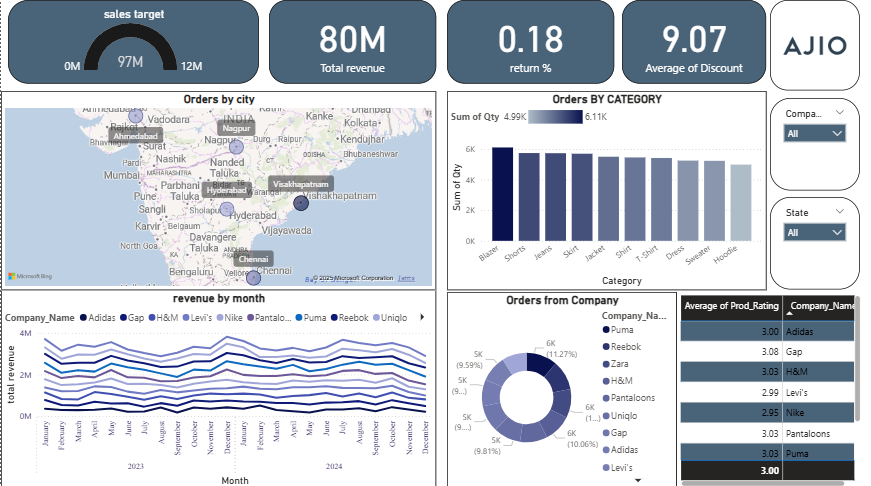

The dashboard page shown, as its layout file describes it:
{"tool":"powerbi","page":{"name":"Sales","canvas":[1280,720],"ordinal":0},"visuals":[{"type":"columnChart","title":"Orders BY CATEGORY ","fields":{"Category":["products.Category"],"Y":["Sum(orders.Qty)"]},"box":[655.6,133.2,469.8,292.7],"z":0},{"type":"donutChart","title":"Orders from Company","fields":{"Category":["products.Company_Name"],"Y":["Sum(orders.Qty)"]},"box":[655.6,428.8,338,291.2],"z":1000},{"type":"slicer","fields":{"Values":["products.Company_Name"]},"box":[1131.2,143.4,131.7,136.1],"z":2000},{"type":"tableEx","title":"QUANTITIES BY CATEGORY ","fields":{"Values":["Avg(ratings.Prod_Rating)","products.Company_Name"]},"box":[993.7,428.8,275.1,291.2],"z":3000},{"type":"stackedAreaChart","title":"revenue by month","fields":{"Series":["products.Company_Name"],"Category":["orders.Order_Date.Variation.Date Hierarchy.Year","orders.Order_Date.Variation.Date Hierarchy.Month"],"Y":["orders.total revenue"]},"box":[0,425.9,639.5,294.1],"z":4000},{"type":"image","box":[1131.2,0,131.7,133.2],"z":5000},{"type":"slicer","fields":{"Values":["customer.State"]},"box":[1131.2,289.8,131.7,136.1],"z":6000},{"type":"card","fields":{"Values":["Avg(orders.Discount)"]},"box":[913.2,0,212.2,122.9],"z":7000},{"type":"card","fields":{"Values":["orders.return %"]},"box":[655.6,0,245.9,122.9],"z":8000},{"type":"map","title":"Orders by city","fields":{"Category":["customer.City"],"Size":["Sum(orders.Qty)"]},"box":[0,133.2,639.5,292.7],"z":9000},{"type":"card","fields":{"Values":["orders.total revenue"]},"box":[393.7,0,245.9,122.9],"z":10000},{"type":"gauge","title":"sales target ","fields":{"Y":["orders.total revenue"],"MinValue":["orders.min sales"],"MaxValue":["orders.max sales"]},"box":[10.2,0,368.8,122.9],"z":11000}]}

Visuals, with their boxes in screenshot pixels (x1, y1, x2, y2), scaled from the page's 1280x720 canvas onto the 871x486 screenshot:
"Orders BY CATEGORY " columnChart: <box>446,90,766,287</box>
"Orders from Company" donutChart: <box>446,289,676,485</box>
slicer - products.Company_Name: <box>770,97,859,189</box>
"QUANTITIES BY CATEGORY " tableEx: <box>676,289,863,485</box>
"revenue by month" stackedAreaChart: <box>0,287,435,485</box>
image: <box>770,0,859,90</box>
slicer - customer.State: <box>770,196,859,287</box>
card - Avg(orders.Discount): <box>621,0,766,83</box>
card - orders.return %: <box>446,0,613,83</box>
"Orders by city" map: <box>0,90,435,287</box>
card - orders.total revenue: <box>268,0,435,83</box>
"sales target " gauge: <box>7,0,258,83</box>
